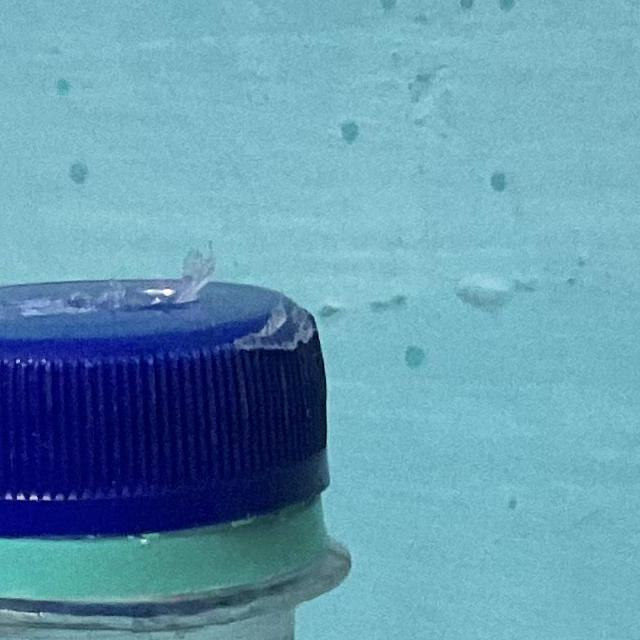Good-cap-Df0S: (0, 258, 336, 612)
